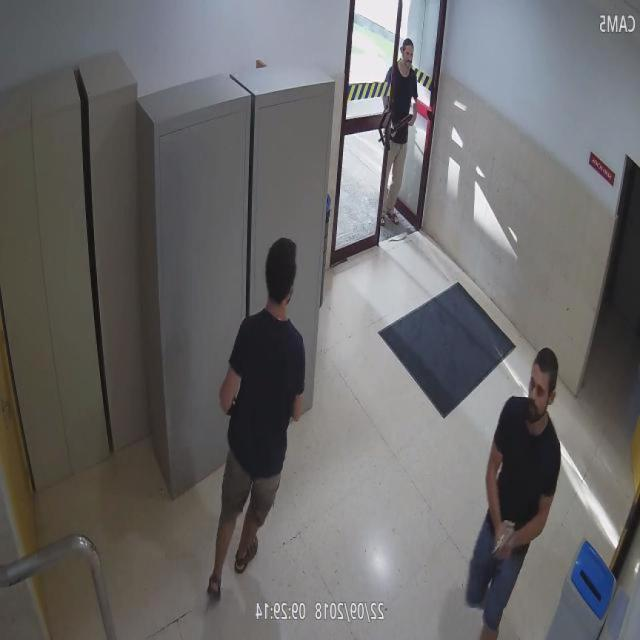pistol: (492, 518, 518, 564)
